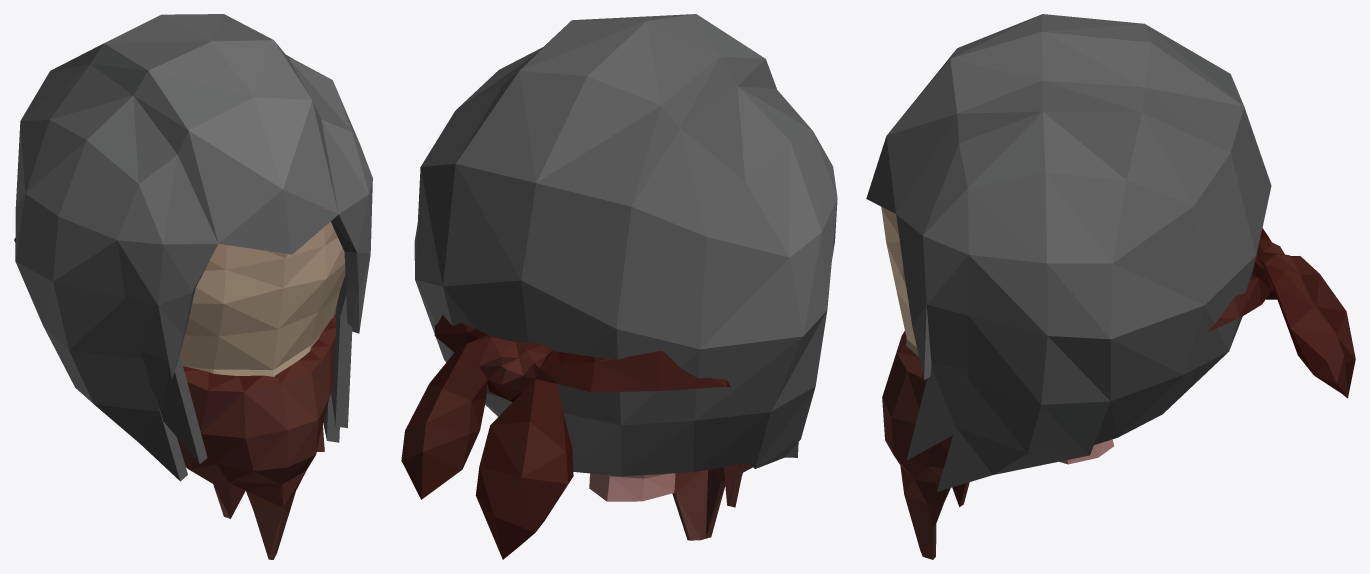
The model's file is helm_lightskin_bob_gray_bandana.fbx.
3 renders of one model, left to right at view 1: azimuth 30°, elevation 25°; view 2: azimuth 150°, elevation 25°; view 3: azimuth 270°, elevation 25°, orthographic. The views are drawn at different scales.
Visible parts, largest first — view 1: helm_lightskin_bob_gray_bandana; view 2: helm_lightskin_bob_gray_bandana; view 3: helm_lightskin_bob_gray_bandana.
Part boxes in pixels (box(x1,y1,x2,y2)): helm_lightskin_bob_gray_bandana: box(14, 14, 372, 559); helm_lightskin_bob_gray_bandana: box(401, 14, 837, 559); helm_lightskin_bob_gray_bandana: box(866, 14, 1355, 559).
Bounding box in the file's own units: 1.18 × 1.65 × 1.4.
